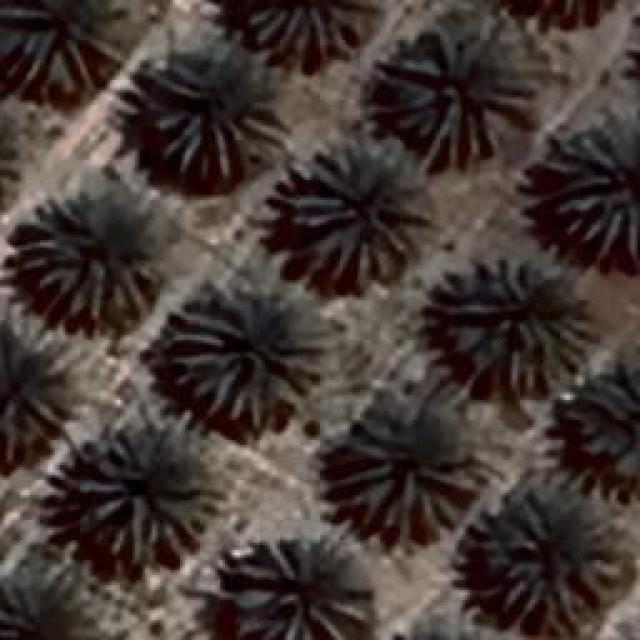PalmTree: (78, 89, 601, 426), (116, 12, 572, 89), (167, 274, 325, 428), (280, 132, 430, 290), (378, 22, 532, 168), (440, 252, 598, 392), (330, 400, 482, 542), (75, 420, 220, 562), (142, 39, 280, 182), (12, 198, 160, 330), (490, 482, 628, 620), (228, 530, 370, 635), (552, 120, 638, 260), (0, 0, 118, 95), (0, 330, 62, 477), (242, 0, 380, 55), (0, 570, 102, 640), (374, 619, 519, 640), (0, 98, 21, 222), (369, 623, 512, 640), (0, 96, 16, 225)
